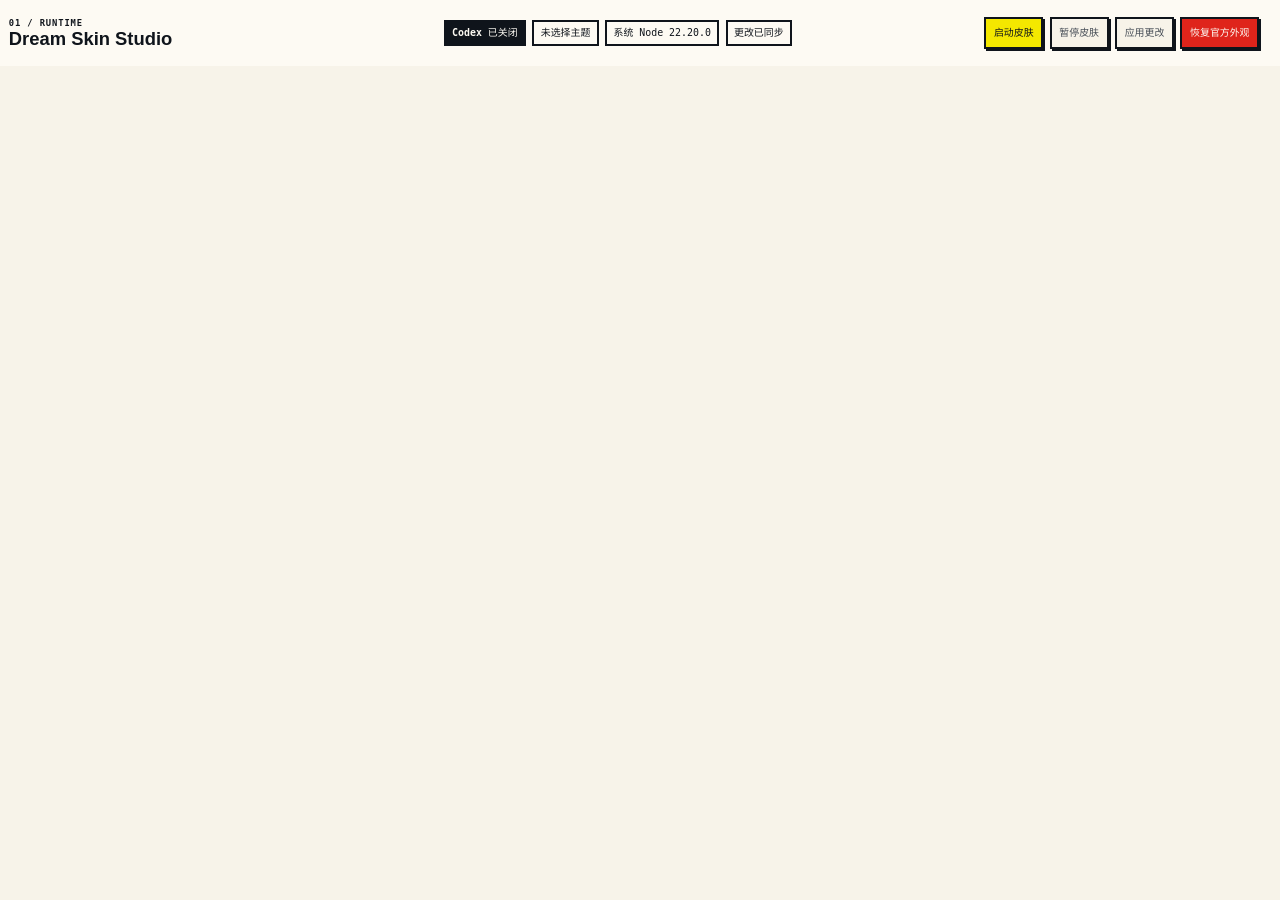
Test: RuntimeBar › starts without restart confirmation and keeps progress visible until the skin is active
Click the button "启动皮肤" at (1014, 33), box [984,17,1043,49]
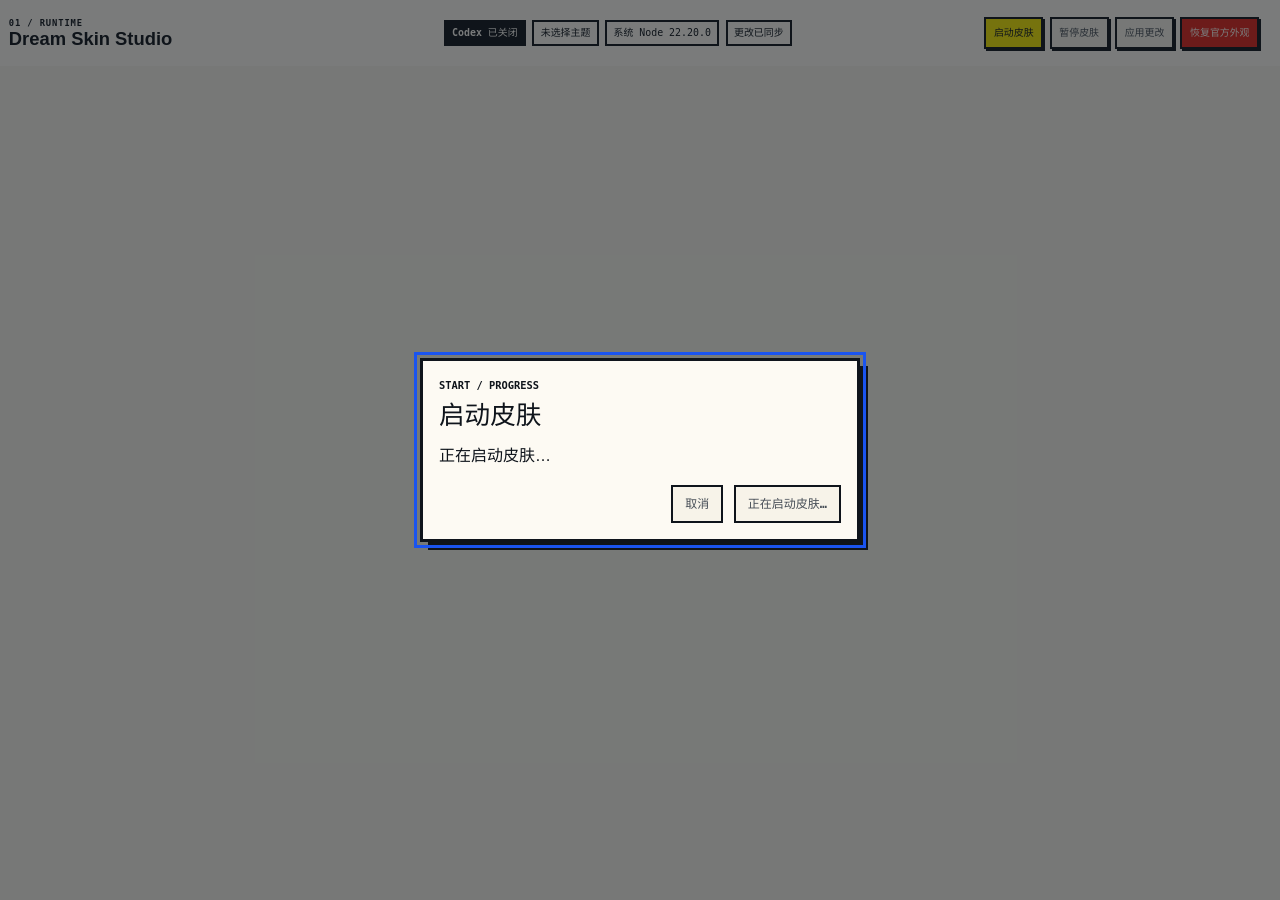
Now the dialog "启动皮肤" is shown, box [420,358,860,542]
Now the button "正在启动皮肤…" is disabled, box [734,485,841,523]
Now the button "取消" is disabled, box [671,485,723,523]
